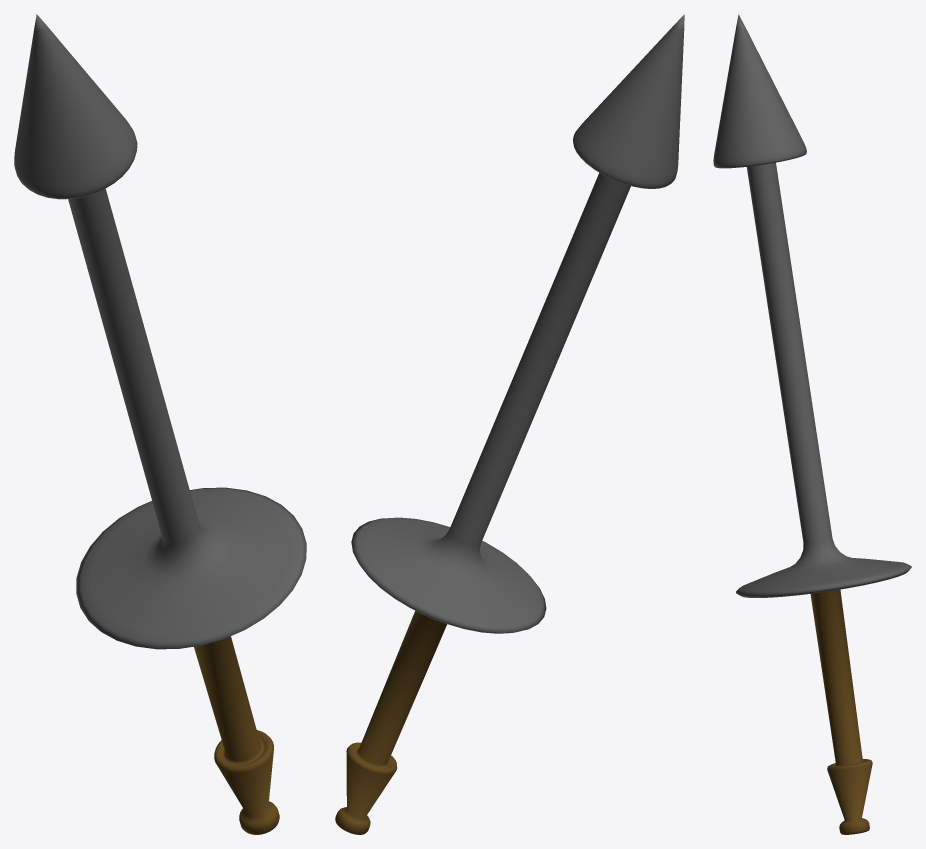
The model's file is LANZA.fbx.
The picture shows the model from 3 angles, left to right: view 1: azimuth 30°, elevation 25°; view 2: azimuth 150°, elevation 25°; view 3: azimuth 270°, elevation 25°; orthographic projection. The views are drawn at different scales.
Visible parts, largest first — view 1: Justa; view 2: Justa; view 3: Justa.
Boxes of the visible parts, bbox=[...] form: Justa: bbox=[14, 14, 306, 834]; Justa: bbox=[335, 14, 684, 834]; Justa: bbox=[713, 14, 911, 834].
Size of the model in its own units: 338 by 962 by 243.
